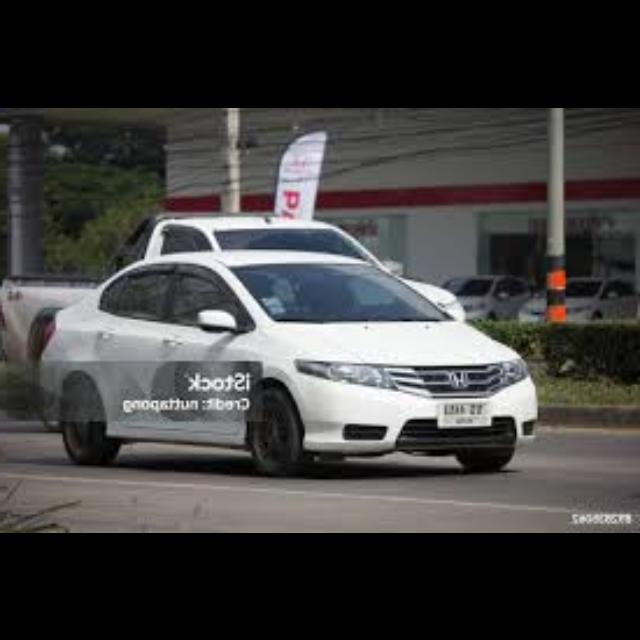vehicles: (7, 195, 545, 477), (526, 275, 638, 319), (442, 272, 534, 320)
